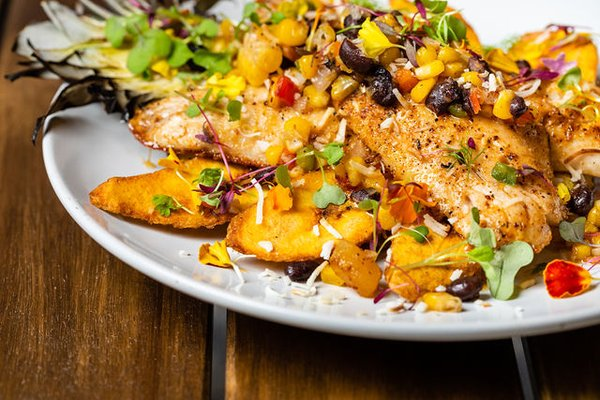curry: (1, 0, 593, 392)
